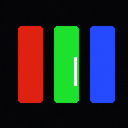4 line_v: (74, 57, 76, 85)
